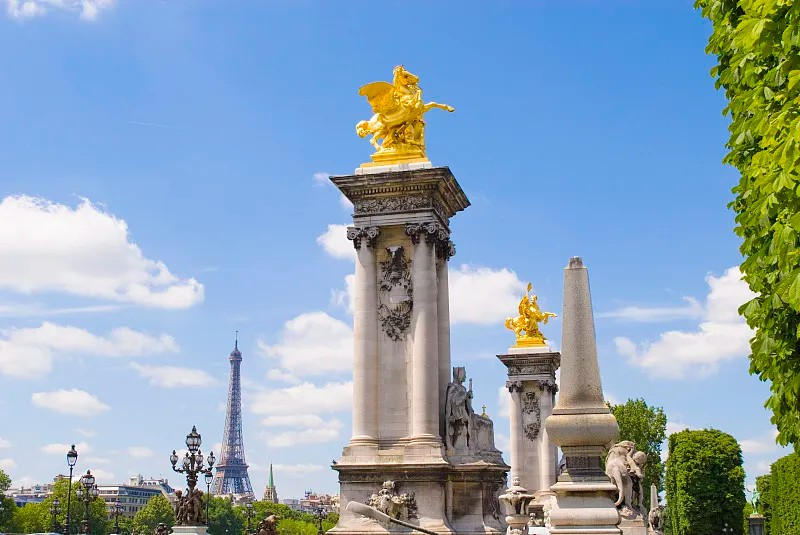Eiffel: (210, 330, 256, 500)
